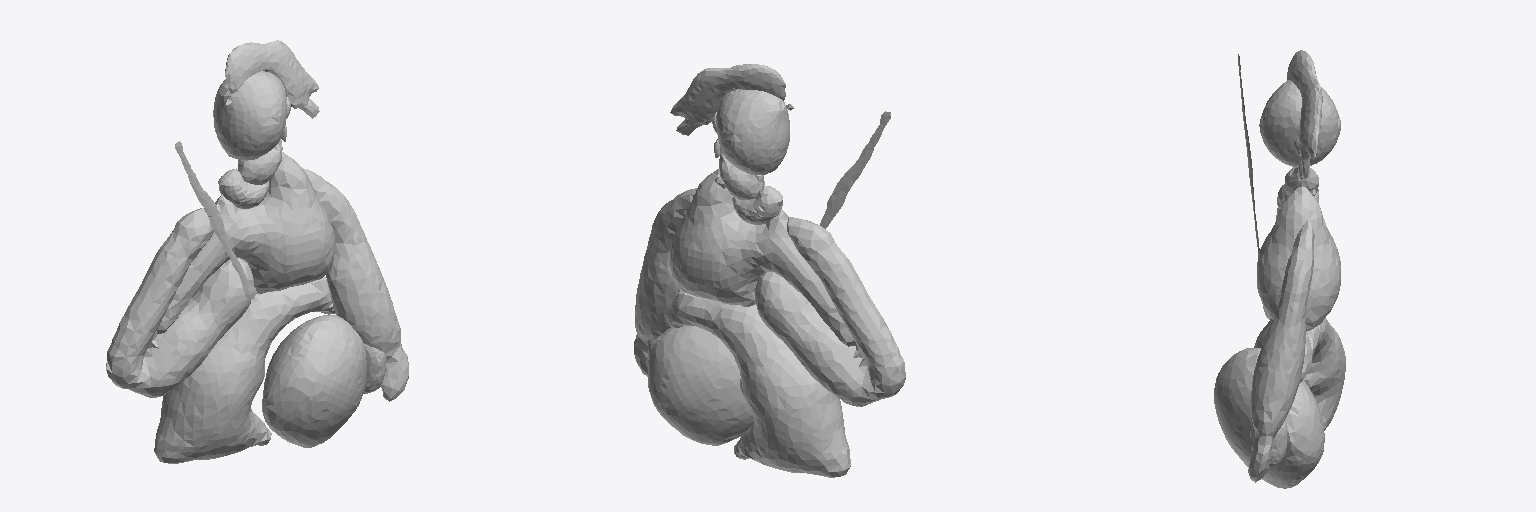
File: jhansa_ki_raani.obj
3 views of the same model, side by side, from view 1: azimuth 30°, elevation 25°; view 2: azimuth 150°, elevation 25°; view 3: azimuth 270°, elevation 25° (orthographic).
Size of the model in its own units: 1.54 by 2.07 by 0.6133.